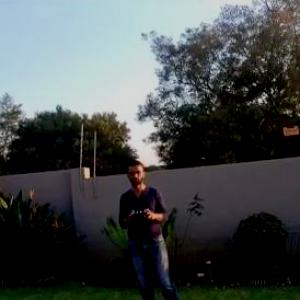follow: (112, 154, 190, 299)
